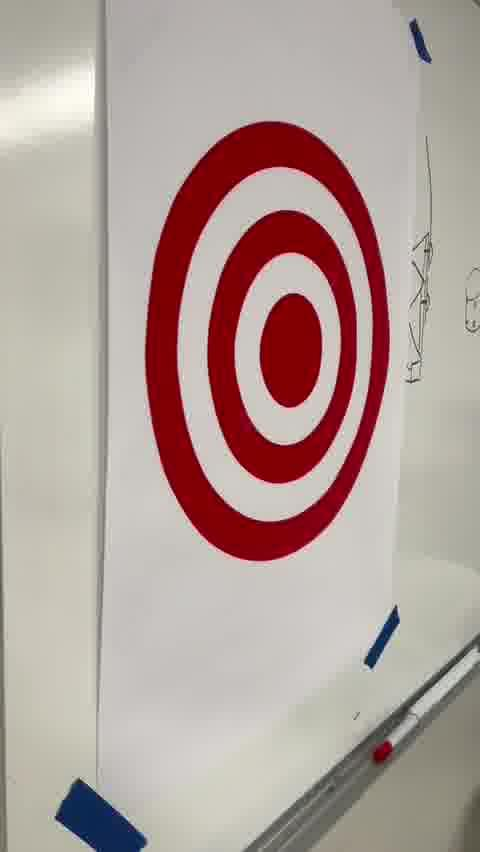target_red: (146, 121, 389, 561)
